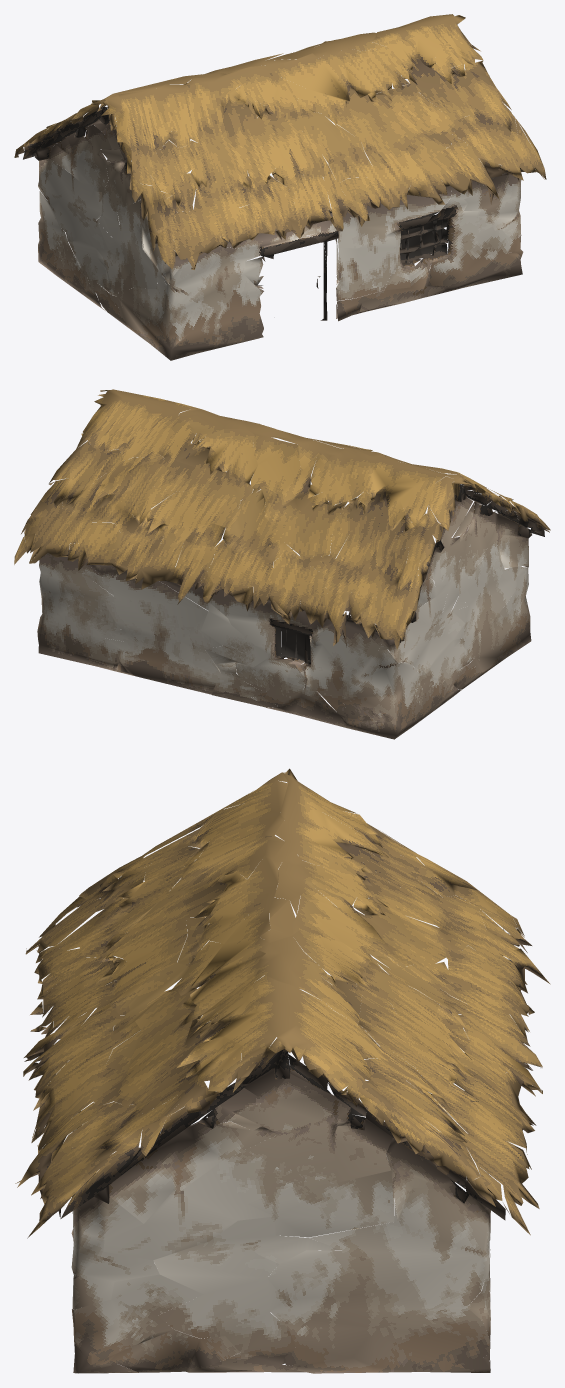
The model's file is posada.glb.
3 renders of one model, top to bottom at view 1: azimuth 30°, elevation 25°; view 2: azimuth 150°, elevation 25°; view 3: azimuth 270°, elevation 25°, orthographic. The views are drawn at different scales.
Parts seen in each view (by area): view 1: tripo_node_fff0bb99-f145-4f8f-8342-08b2c095c38b; view 2: tripo_node_fff0bb99-f145-4f8f-8342-08b2c095c38b; view 3: tripo_node_fff0bb99-f145-4f8f-8342-08b2c095c38b.
Part boxes in pixels (box(x1,y1,x2,y2)): tripo_node_fff0bb99-f145-4f8f-8342-08b2c095c38b: box(14, 14, 546, 360); tripo_node_fff0bb99-f145-4f8f-8342-08b2c095c38b: box(14, 389, 550, 739); tripo_node_fff0bb99-f145-4f8f-8342-08b2c095c38b: box(15, 768, 550, 1373).
Size of the model in its own units: 1.9 by 1.01 by 1.46.
1 material, 1 textured.
